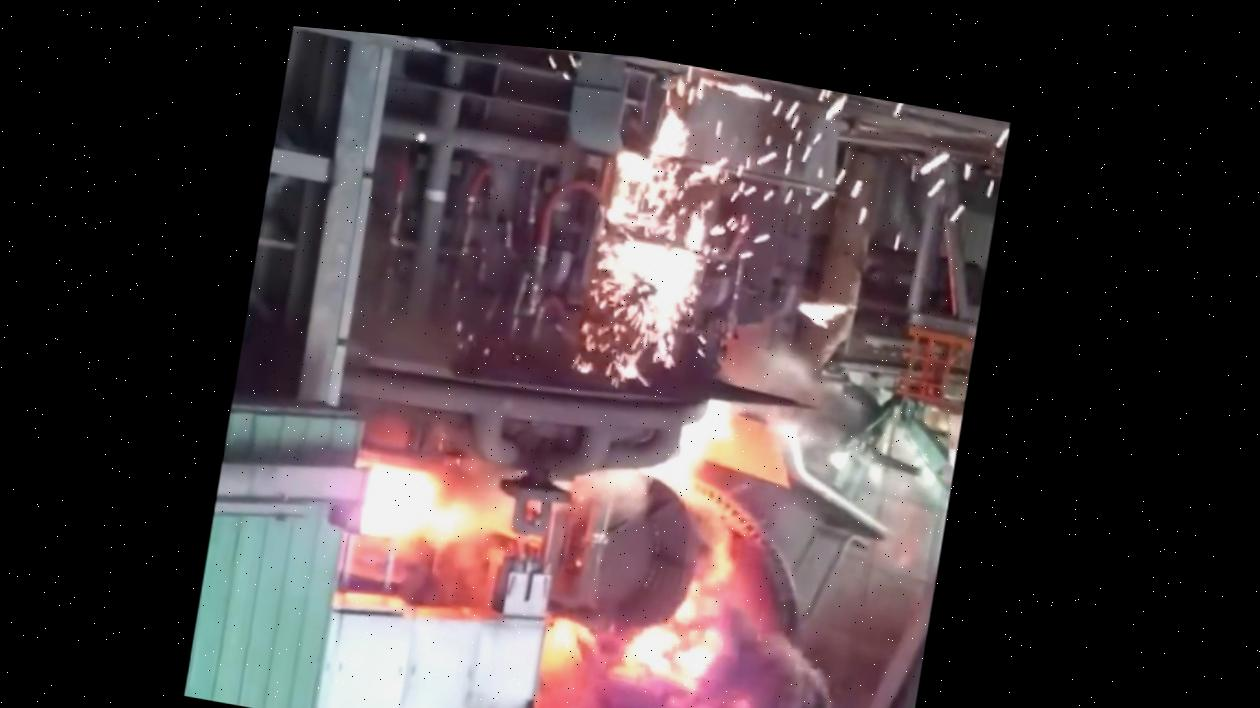fire: (334, 71, 942, 708)
